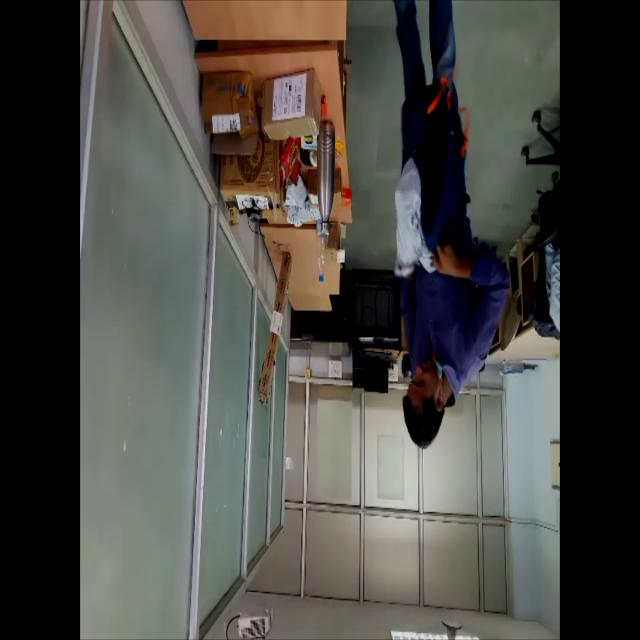shoplifting: (374, 2, 486, 454)
